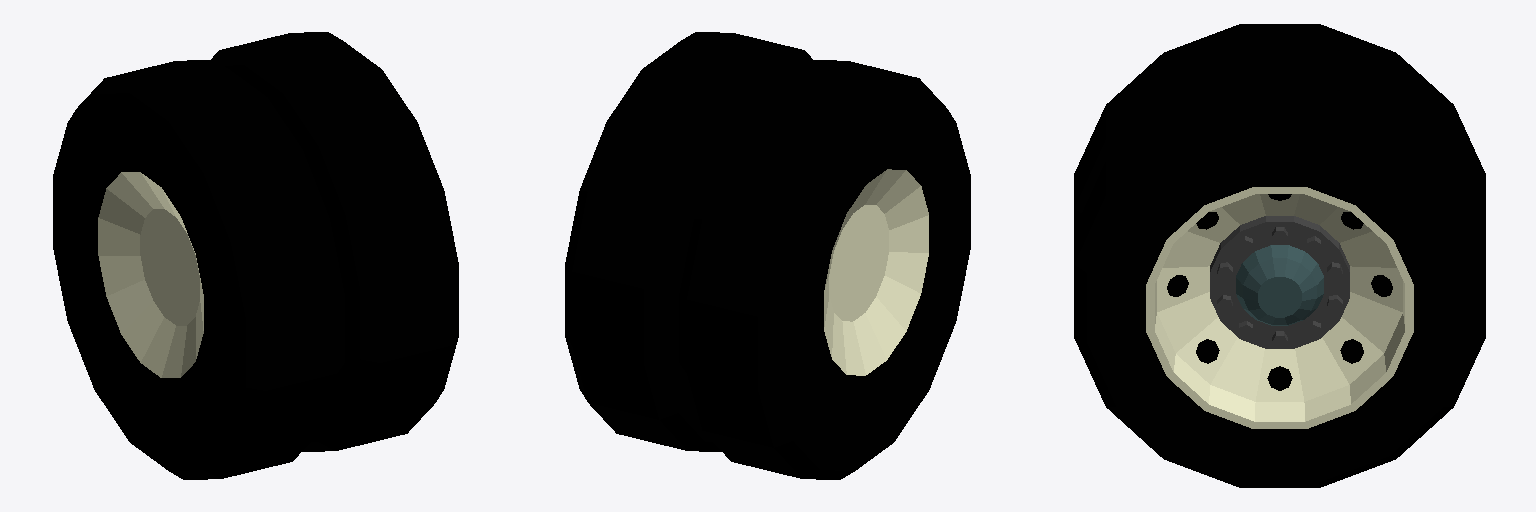
Rendered from wheel04.obj.
The picture shows the model from 3 angles: view 1: azimuth 30°, elevation 25°; view 2: azimuth 150°, elevation 25°; view 3: azimuth 270°, elevation 25°; orthographic projection.
Visible parts, largest first — view 1: Wheel04; view 2: Wheel04; view 3: Wheel04.
Boxes of the visible parts, box(x1,y1,x2,y2) form: Wheel04: box(53, 32, 458, 479); Wheel04: box(565, 32, 970, 479); Wheel04: box(1074, 24, 1485, 487).
Bounding box in the file's own units: 20.22 × 33.69 × 33.69.